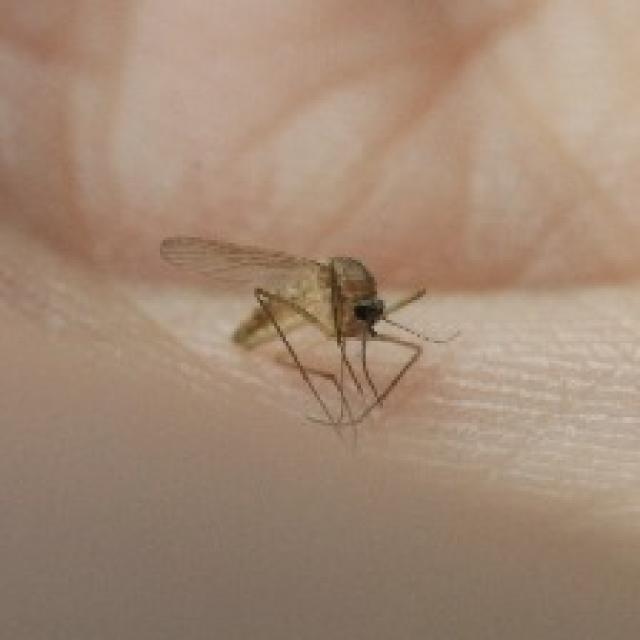culex: (157, 232, 460, 428)
